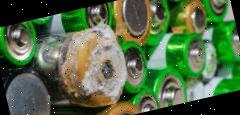electronic: (154, 20, 218, 88)
